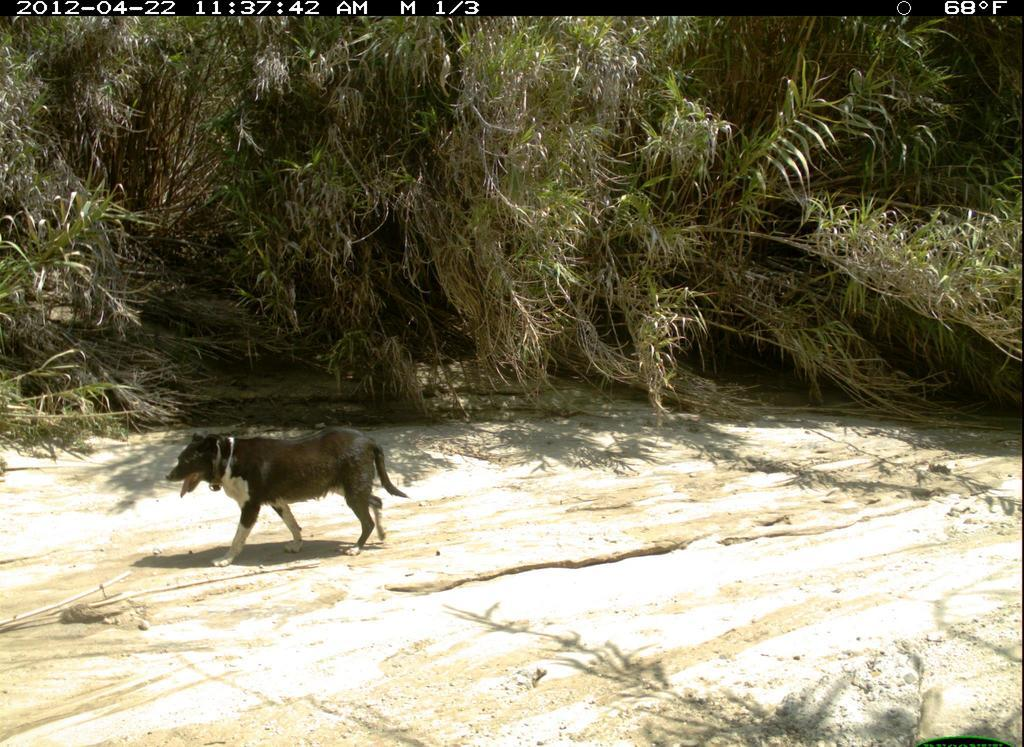dog: (166, 419, 402, 577)
